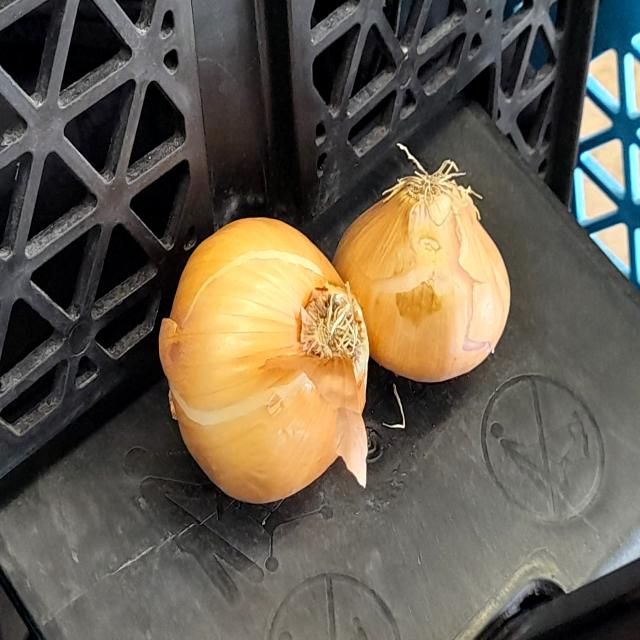onion: (156, 198, 378, 511), (330, 163, 520, 388)
